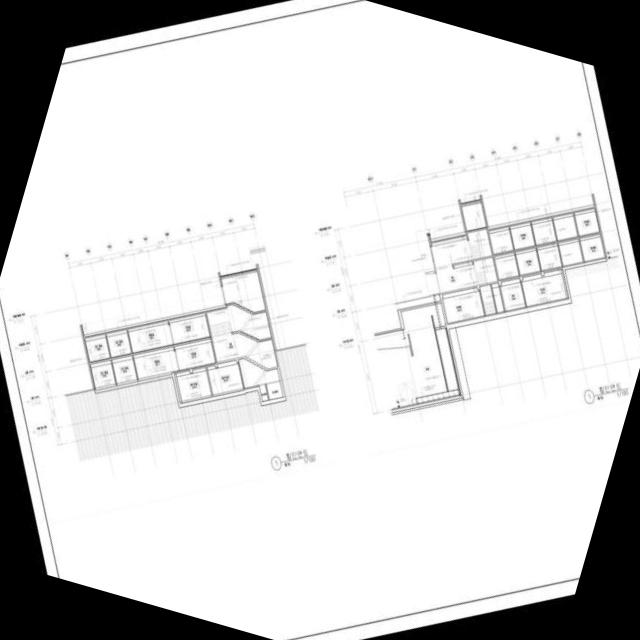background: (0, 0, 640, 640)
space_bedroom: (111, 354, 137, 384), (90, 359, 115, 389), (509, 221, 535, 249), (573, 208, 599, 236), (515, 247, 540, 275), (579, 233, 604, 261), (84, 333, 109, 361), (106, 329, 131, 357)
space_other: (374, 302, 448, 409), (430, 235, 476, 292), (521, 268, 568, 306), (435, 327, 460, 397), (206, 307, 236, 361), (442, 286, 484, 323), (206, 359, 243, 395), (174, 366, 211, 402), (500, 277, 525, 311), (493, 251, 519, 280), (557, 238, 583, 266), (536, 242, 561, 270), (552, 212, 577, 240), (488, 226, 513, 254), (531, 217, 556, 245), (491, 282, 504, 313), (266, 380, 283, 399), (258, 383, 268, 400)
space_staircase: (220, 269, 265, 311), (226, 303, 271, 339), (232, 332, 277, 368), (238, 357, 279, 388), (467, 228, 492, 259), (461, 200, 486, 230), (472, 256, 497, 284), (479, 283, 496, 315)
space_toilet: (132, 346, 178, 380), (127, 320, 172, 352), (174, 338, 215, 370), (168, 312, 210, 343)
